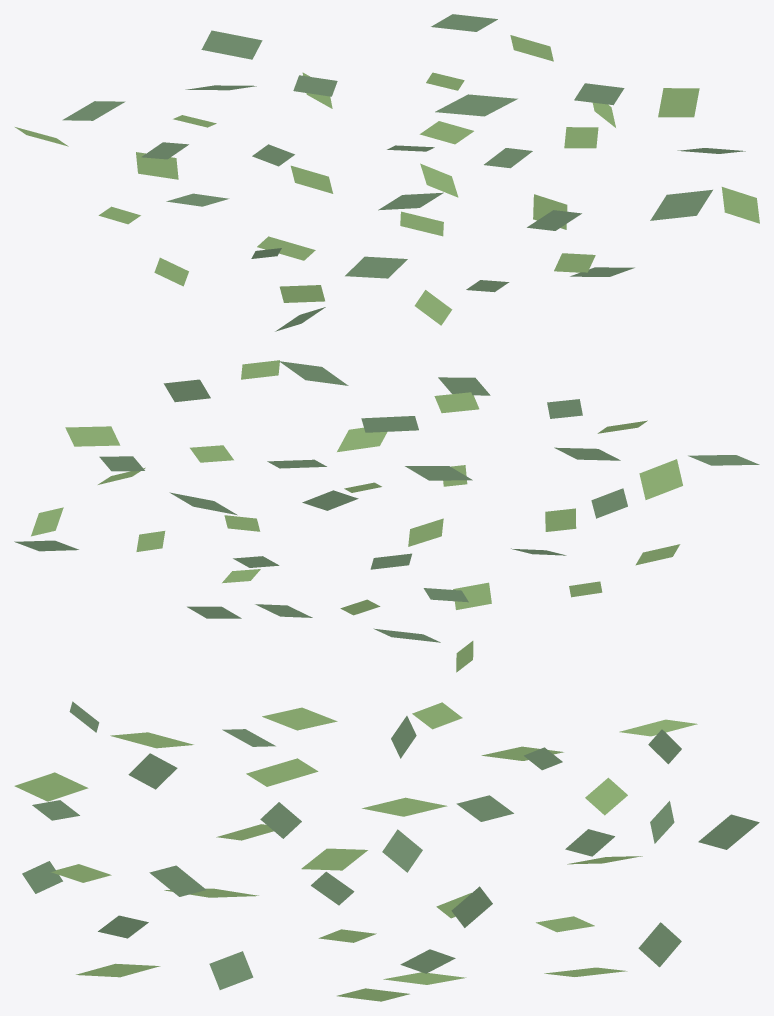
The model's file is leaves_01.fbx.
3 renders of one model, top to bottom at view 1: azimuth 30°, elevation 25°; view 2: azimuth 150°, elevation 25°; view 3: azimuth 270°, elevation 25°, orthographic. The views are drawn at different scales.
Parts seen in each view (by area): view 1: Plane; view 2: Plane; view 3: Plane.
Part boxes in pixels (x1,y1,x2,y2): Plane: (15,14,759,331); Plane: (14,360,759,672); Plane: (14,701,759,1001).
Size of the model in its own units: 2951 by 146 by 2982.
